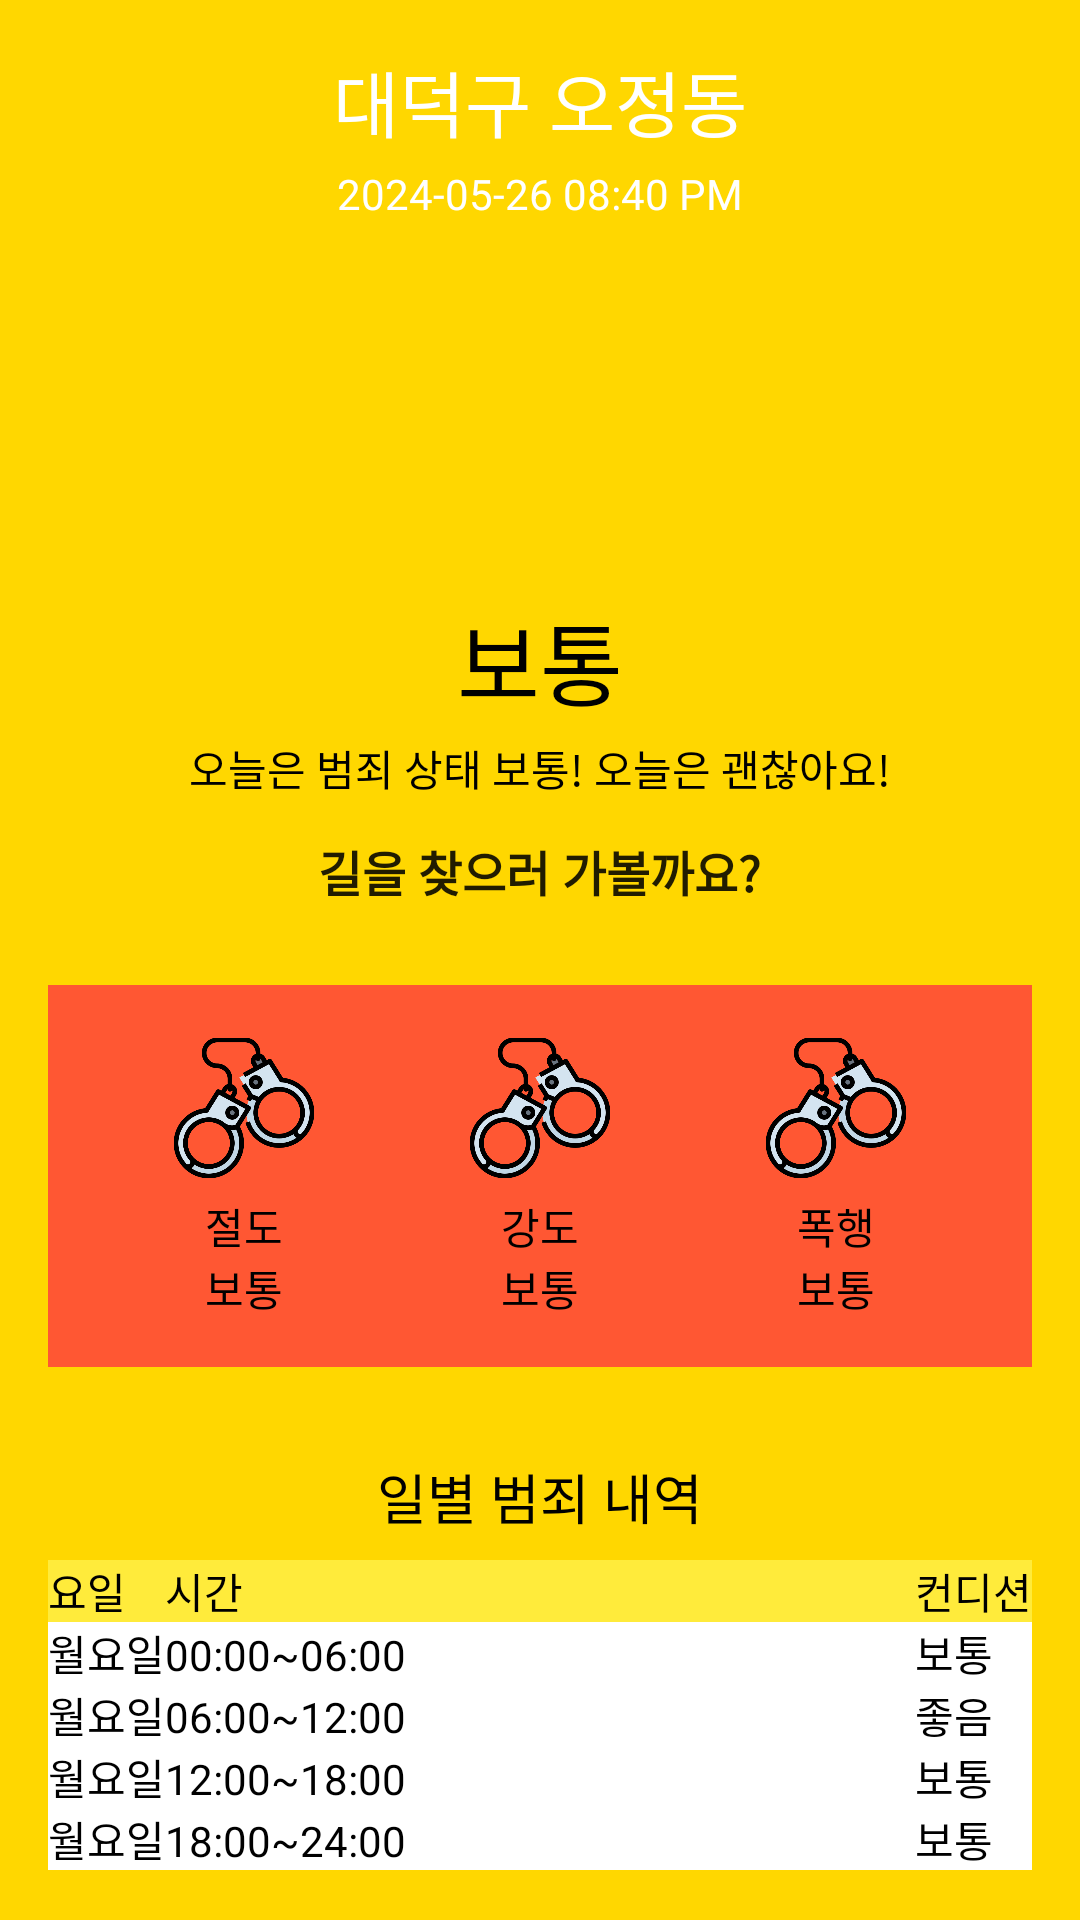

Where to tap for icons on this 1080 x 1920 app screen, as (x,y):
handcuffs: (244,1108), (540,1108), (836,1108)
